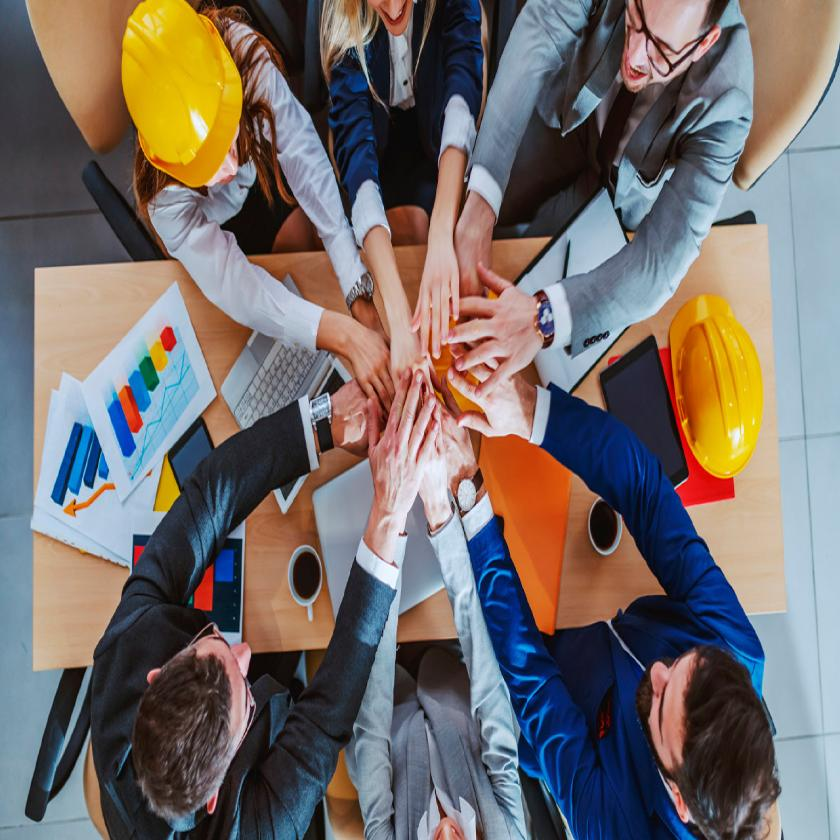Con_casco: (116, 0, 250, 194)
Sin_casco: (636, 637, 772, 840), (133, 627, 255, 819), (616, 0, 732, 104)
